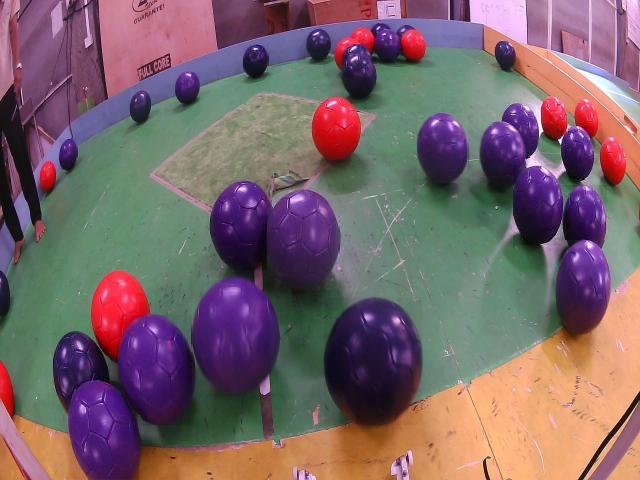jambhalya: (193, 277, 280, 393), (119, 315, 194, 425), (267, 190, 339, 290), (69, 382, 141, 479), (210, 180, 272, 270), (556, 240, 611, 333), (514, 165, 563, 245), (417, 114, 468, 183), (480, 122, 526, 189), (563, 185, 607, 248), (503, 103, 539, 157), (561, 127, 594, 179), (375, 28, 401, 62), (175, 72, 200, 103), (60, 138, 77, 170)
kaalyya: (324, 298, 422, 425), (53, 331, 110, 411), (342, 54, 376, 98), (244, 45, 268, 78), (306, 30, 331, 61), (130, 90, 151, 123), (342, 45, 371, 65), (495, 42, 516, 69), (396, 25, 414, 40), (371, 23, 390, 37)
